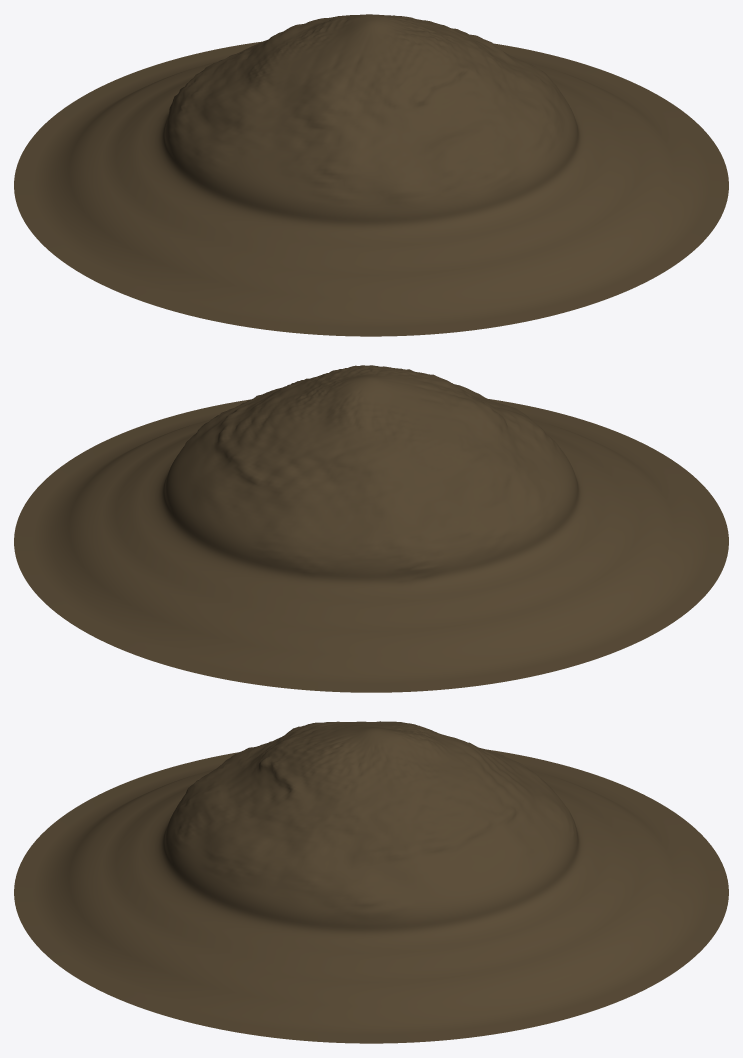
Rendered from dirt_mound.fbx.
The picture shows the model from 3 angles, top to bottom: view 1: azimuth 30°, elevation 25°; view 2: azimuth 150°, elevation 25°; view 3: azimuth 270°, elevation 25°; orthographic projection.
Visible parts, largest first — view 1: pSphere1; view 2: pSphere1; view 3: pSphere1.
Boxes of the visible parts, x1,y1,x2,y2 form: pSphere1: [14, 14, 728, 336]; pSphere1: [14, 365, 728, 692]; pSphere1: [14, 721, 728, 1043].
Bounding box in the file's own units: 19.71 × 4.95 × 19.71.
